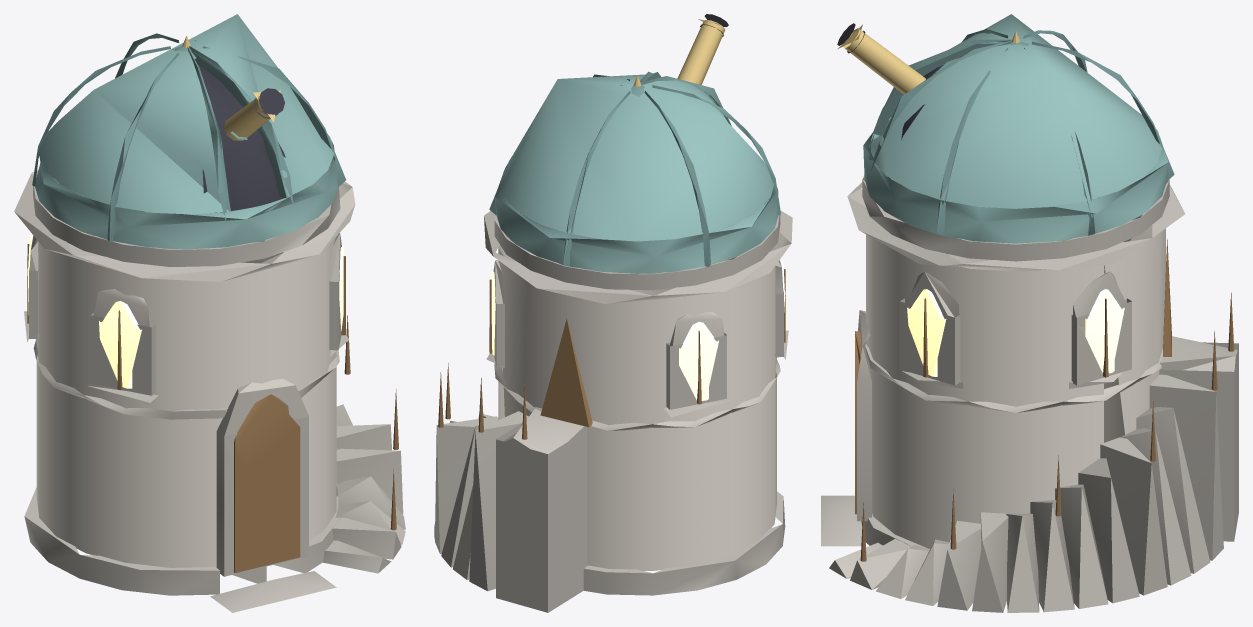
Rendered from generated.observatory.gltf.
3 renders of one model, left to right at view 1: azimuth 30°, elevation 25°; view 2: azimuth 150°, elevation 25°; view 3: azimuth 270°, elevation 25°, orthographic. The views are drawn at different scales.
Visible parts, largest first — view 1: Observatory; view 2: Observatory; view 3: Observatory.
Part boxes in pixels (x1,y1,x2,y2): Observatory: (14, 14, 405, 612); Observatory: (434, 14, 792, 612); Observatory: (821, 14, 1238, 612).
Size of the model in its own units: 5.09 by 7.31 by 5.57.
